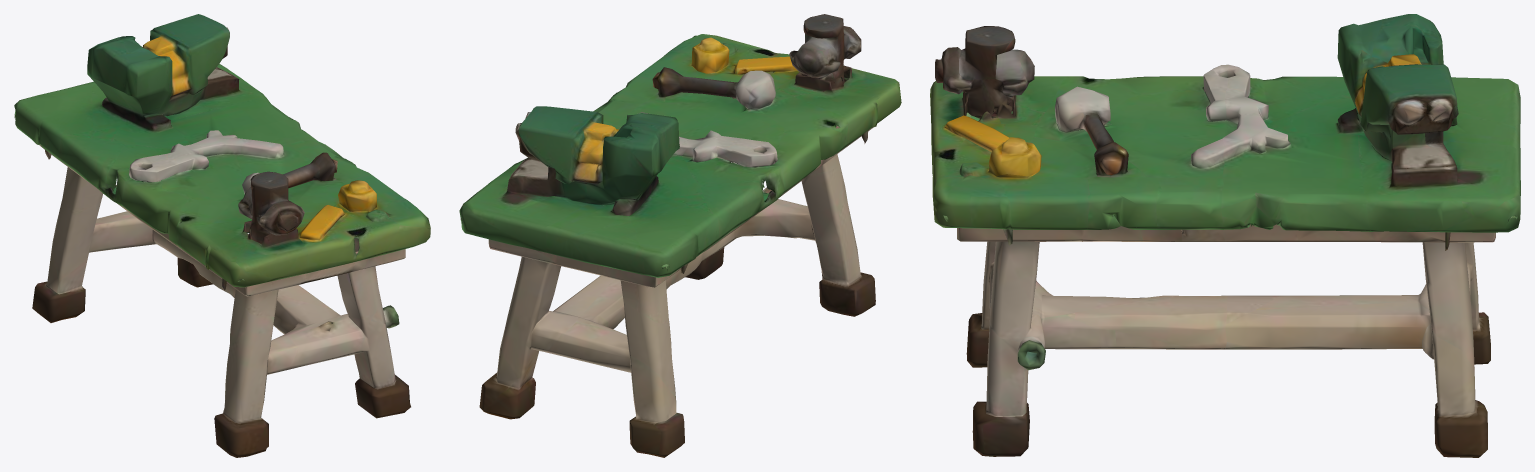
File: workbench.glb
The picture shows the model from 3 angles, left to right: view 1: azimuth 30°, elevation 25°; view 2: azimuth 150°, elevation 25°; view 3: azimuth 270°, elevation 25°; orthographic projection. The views are drawn at different scales.
Parts seen in each view (by area): view 1: tripo_node_fb365827-f3a6-4e45-ac8a-eecafd69be7e; view 2: tripo_node_fb365827-f3a6-4e45-ac8a-eecafd69be7e; view 3: tripo_node_fb365827-f3a6-4e45-ac8a-eecafd69be7e.
Boxes of the visible parts, x1,y1,x2,y2 form: tripo_node_fb365827-f3a6-4e45-ac8a-eecafd69be7e: (14,14,430,457); tripo_node_fb365827-f3a6-4e45-ac8a-eecafd69be7e: (459,14,901,457); tripo_node_fb365827-f3a6-4e45-ac8a-eecafd69be7e: (930,14,1520,457).
Bounding box in the file's own units: 0.7585 × 1 × 1.48.
1 material, 1 textured.
